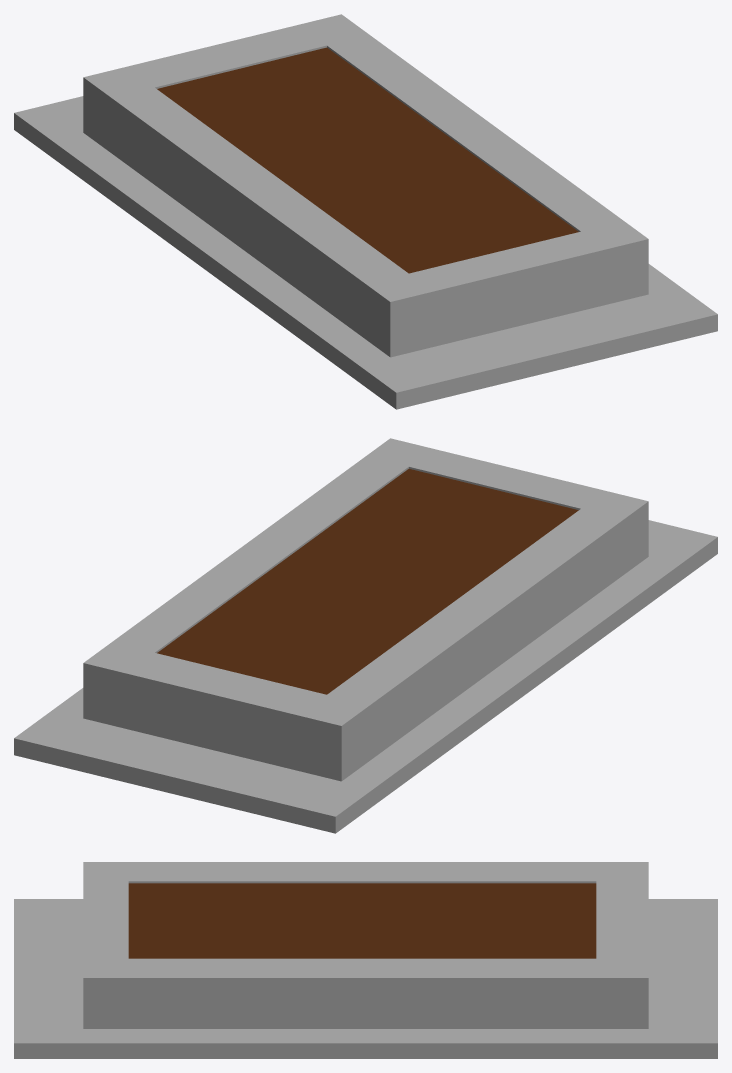
File: Tumba1.obj
The picture shows the model from 3 angles, top to bottom: view 1: azimuth 30°, elevation 25°; view 2: azimuth 150°, elevation 25°; view 3: azimuth 270°, elevation 25°; orthographic projection. The views are drawn at different scales.
Visible parts, largest first — view 1: TumbaBase_Plane.001; view 2: TumbaBase_Plane.001; view 3: TumbaBase_Plane.001.
Boxes of the visible parts, box(x1,y1,x2,y2) form: TumbaBase_Plane.001: box(14, 14, 717, 409); TumbaBase_Plane.001: box(14, 438, 717, 833); TumbaBase_Plane.001: box(14, 862, 717, 1058).
Size of the model in its own units: 1.95 by 0.4193 by 4.02.
